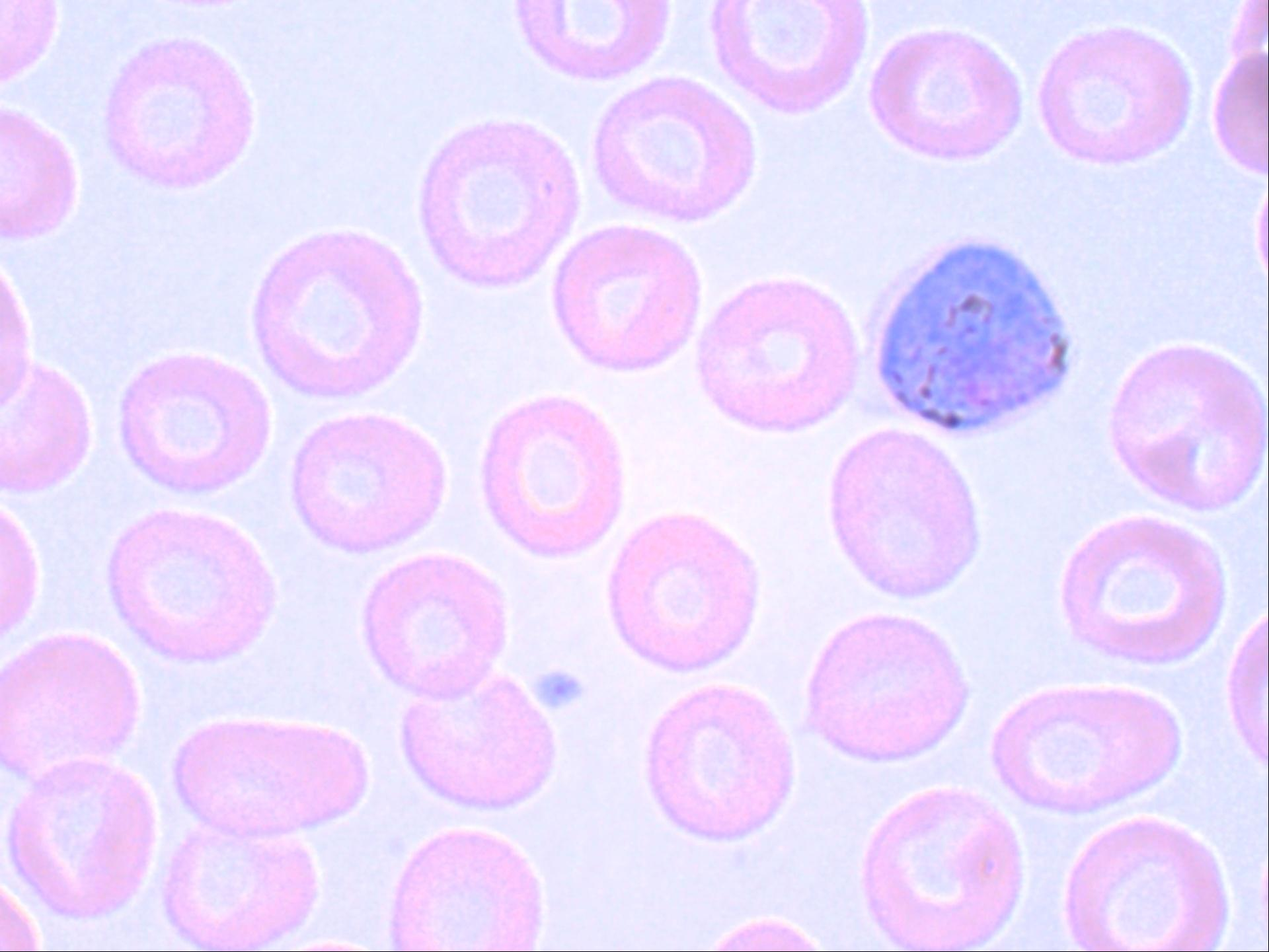Infected: (861, 239, 1072, 439)
Uninfected: (254, 231, 421, 395), (863, 789, 1024, 949), (422, 120, 581, 281), (109, 509, 274, 662), (1110, 343, 1263, 505), (1060, 517, 1223, 666), (831, 430, 978, 595), (697, 279, 855, 429), (804, 615, 963, 763), (9, 761, 158, 918), (174, 718, 365, 840), (991, 684, 1173, 812), (608, 512, 756, 668), (648, 681, 792, 840), (480, 391, 617, 558), (555, 219, 696, 381), (596, 77, 753, 220), (108, 38, 255, 187), (364, 553, 509, 700), (1063, 818, 1225, 949), (120, 353, 273, 491), (291, 412, 443, 550), (1040, 26, 1189, 163), (401, 675, 553, 809), (868, 28, 1022, 160), (2, 635, 139, 780), (166, 828, 317, 949), (391, 830, 540, 951), (714, 2, 868, 111)
